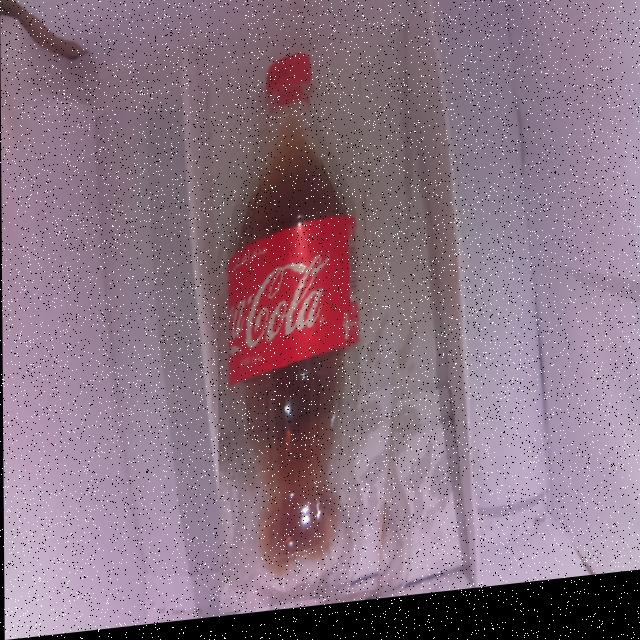plasticbottle: (215, 35, 431, 621)
plasticbottlecap: (263, 55, 339, 134)
